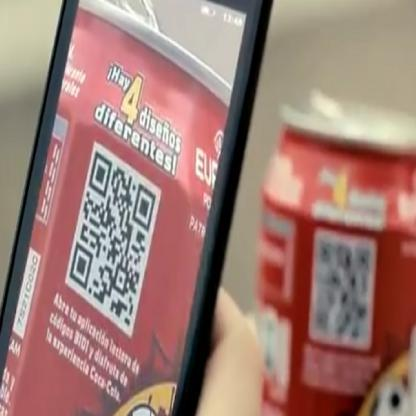qr_code: (69, 152, 156, 326), (314, 235, 372, 344)
